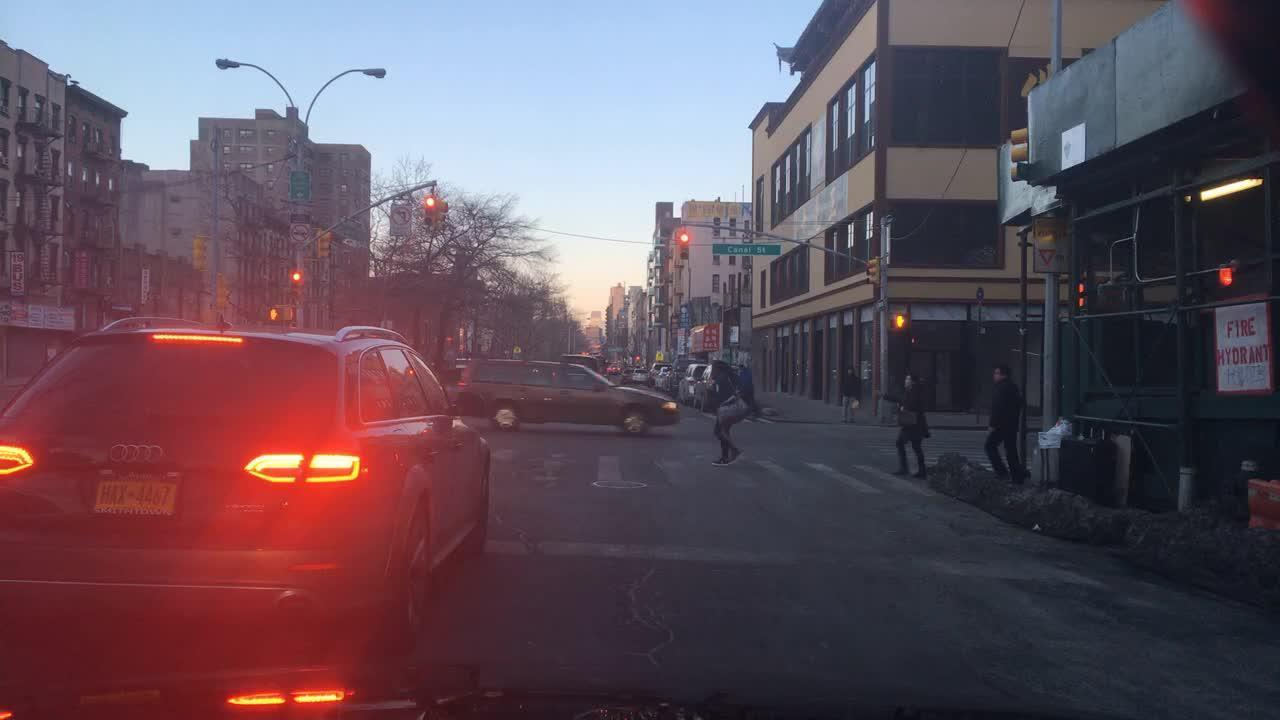Audi: (107, 440, 166, 467)
